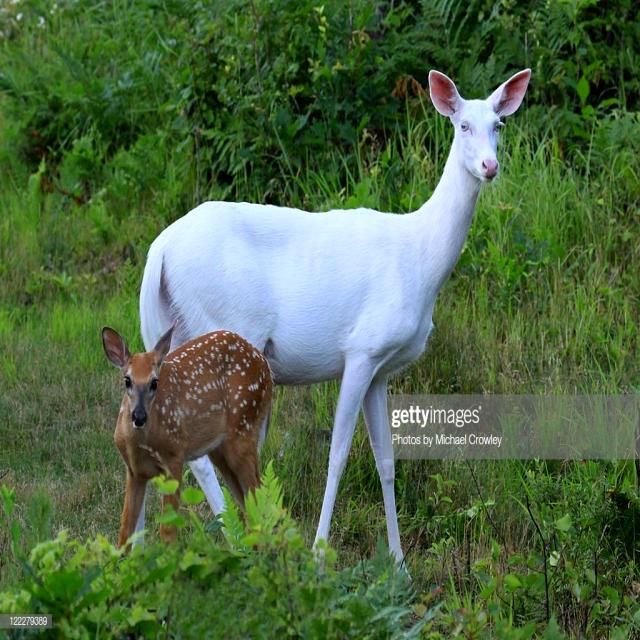deer: (417, 49, 538, 203), (97, 312, 197, 467)
